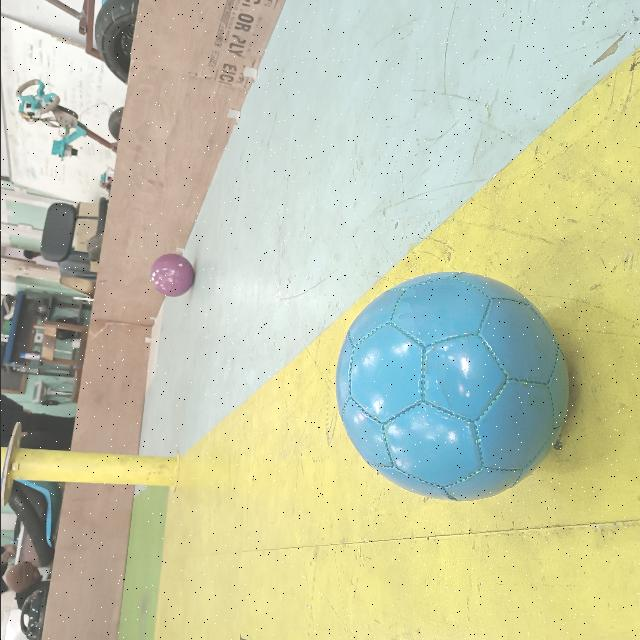B: (330, 270, 568, 504)
P: (147, 252, 195, 298)
